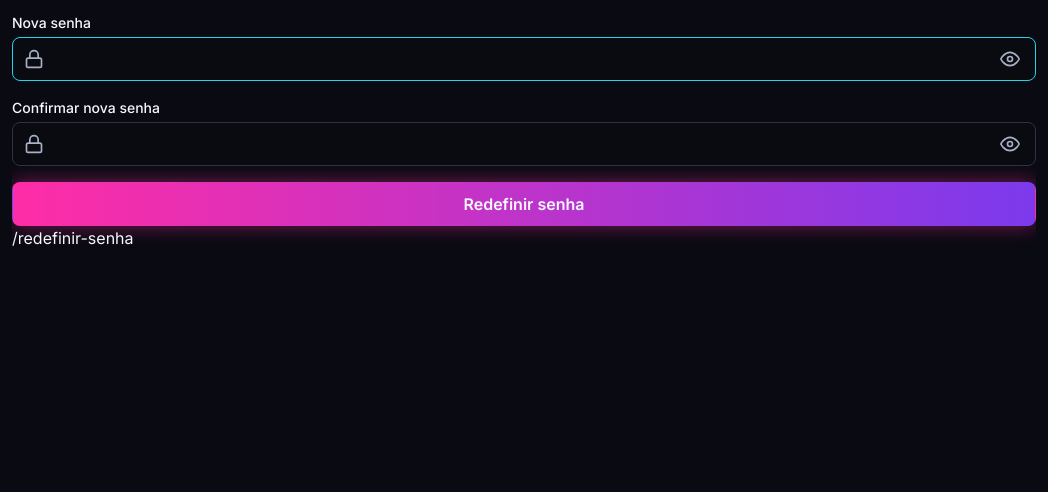
Test: ResetPasswordForm (AUTH-003) › erro de politica vindo do servidor aparece no campo e mantem o formulario
In the password field labelled "Nova senha": (524, 59) [12,37,1036,81], type "Nova-Frase-Longa-Segura-1"
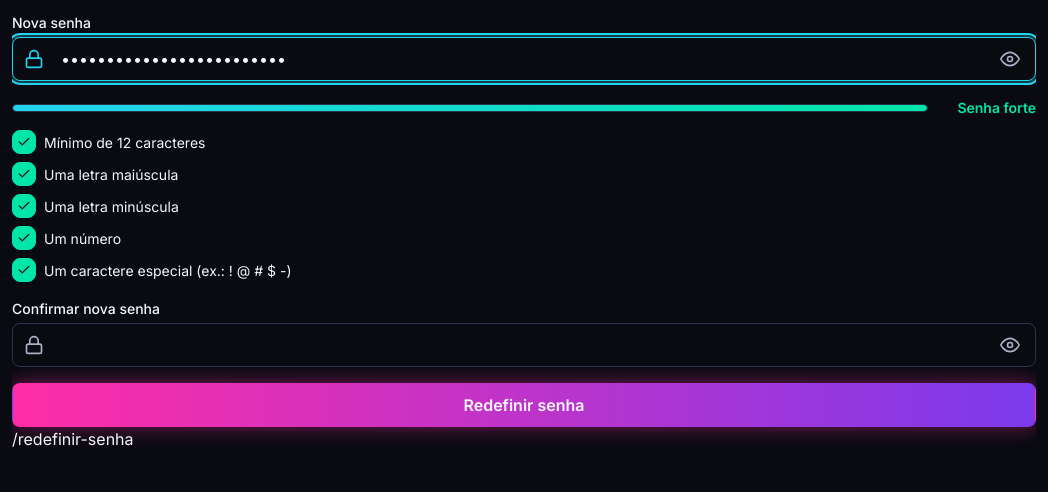
In the password field labelled "Confirmar nova senha": (524, 345) [12,323,1036,367], type "Nova-Frase-Longa-Segura-1"
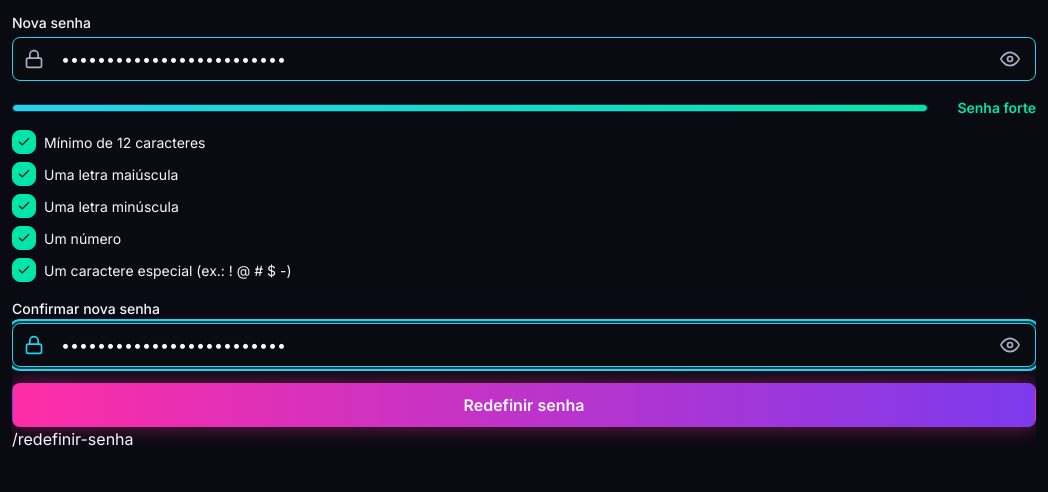
Click the button "Redefinir senha": (524, 405) [12,383,1036,427]
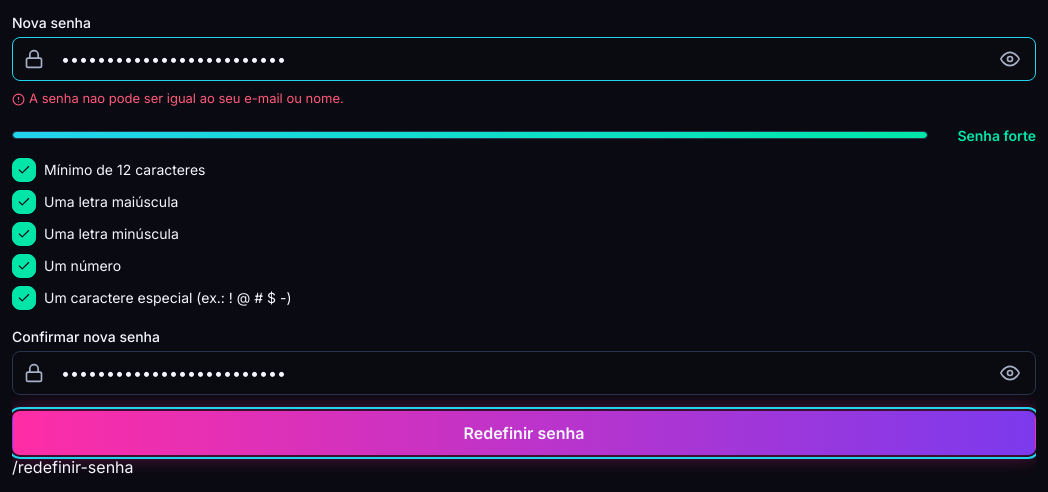
Now the text "A senha nao pode ser igual ao seu e-mail ou nome." is shown, box [29,89,344,108]
